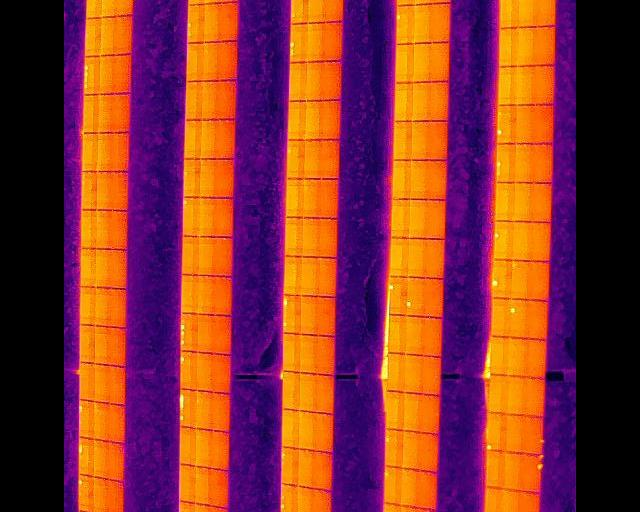Cell: (519, 414, 543, 453), (508, 298, 528, 338), (406, 277, 426, 315), (397, 4, 415, 42), (390, 276, 407, 314), (281, 446, 298, 484), (184, 196, 200, 235), (487, 411, 503, 450), (180, 351, 196, 389), (79, 399, 94, 438), (493, 220, 508, 259), (79, 437, 94, 475), (493, 259, 508, 297), (497, 105, 511, 143), (79, 474, 93, 511)
Cell-Multi: (519, 453, 542, 492), (290, 22, 308, 61), (283, 294, 300, 333), (188, 4, 205, 42), (495, 143, 511, 182), (181, 313, 197, 351), (85, 55, 100, 93), (281, 483, 298, 512)
No-Anomaly: (529, 182, 553, 222), (520, 377, 544, 416), (531, 143, 555, 182), (509, 182, 532, 222), (528, 221, 551, 260), (523, 337, 545, 377), (516, 64, 538, 104), (532, 104, 554, 143), (208, 469, 228, 509), (503, 336, 523, 376), (536, 65, 556, 104), (214, 236, 234, 275), (519, 26, 539, 65), (324, 20, 343, 61), (503, 374, 522, 415), (512, 102, 531, 143), (528, 297, 547, 337), (537, 24, 556, 64), (418, 470, 438, 508), (423, 316, 442, 356), (425, 276, 444, 316), (511, 142, 530, 182), (300, 334, 319, 373), (321, 99, 340, 138), (218, 119, 237, 158), (419, 432, 438, 471), (430, 42, 449, 81), (432, 3, 451, 42), (498, 65, 517, 104), (500, 27, 519, 66), (508, 259, 527, 298), (509, 221, 528, 260), (200, 198, 219, 236), (410, 199, 429, 237), (430, 81, 449, 119), (300, 294, 318, 334), (304, 138, 322, 178), (308, 21, 326, 61), (323, 58, 341, 98), (395, 119, 413, 159), (211, 430, 229, 470), (213, 353, 231, 393), (406, 314, 424, 354), (409, 238, 427, 278), (430, 119, 448, 159), (299, 408, 316, 450), (528, 260, 547, 297), (315, 449, 333, 488), (318, 335, 336, 374), (319, 178, 337, 217), (388, 351, 406, 390), (392, 198, 410, 237), (394, 159, 412, 198), (406, 353, 424, 392), (201, 158, 219, 197), (213, 315, 231, 354), (220, 40, 238, 79), (221, 80, 239, 119), (415, 4, 433, 43), (423, 355, 441, 394), (430, 159, 448, 198), (316, 411, 333, 452), (285, 217, 303, 255), (286, 178, 304, 216), (316, 374, 334, 412), (387, 391, 405, 429), (388, 314, 406, 352), (391, 237, 409, 275), (195, 352, 213, 390), (412, 160, 430, 198), (302, 255, 319, 295), (319, 216, 336, 256), (214, 275, 231, 315), (426, 237, 443, 277), (386, 428, 404, 465), (285, 255, 302, 294), (287, 139, 304, 178), (290, 62, 307, 101), (299, 372, 316, 411), (305, 99, 322, 138), (319, 256, 336, 295), (402, 467, 419, 506), (404, 431, 421, 470), (405, 392, 422, 431), (180, 426, 197, 465), (180, 463, 197, 502), (187, 80, 204, 119), (187, 42, 204, 81), (204, 80, 221, 119), (212, 392, 229, 431), (220, 1, 237, 40), (413, 42, 430, 81), (502, 413, 519, 452), (288, 101, 305, 139), (298, 449, 315, 487), (385, 466, 402, 504), (396, 81, 413, 119), (110, 403, 127, 441), (196, 391, 213, 429), (414, 82, 431, 120), (421, 394, 438, 432), (319, 295, 335, 335), (322, 137, 338, 177), (111, 287, 127, 327), (116, 14, 132, 54), (429, 198, 445, 238), (503, 450, 519, 490), (304, 178, 320, 217), (82, 131, 98, 170), (84, 93, 100, 132), (397, 42, 413, 81), (108, 441, 124, 480), (111, 248, 127, 287), (112, 209, 128, 248), (112, 170, 128, 209), (184, 158, 200, 197), (186, 119, 202, 158), (198, 313, 214, 352), (202, 119, 218, 158), (205, 41, 221, 80), (282, 408, 298, 447), (283, 332, 299, 371), (284, 371, 300, 410), (413, 120, 429, 159), (109, 365, 125, 403), (110, 327, 126, 365), (94, 401, 110, 439), (495, 181, 511, 219), (115, 92, 130, 132), (115, 52, 130, 92), (196, 427, 211, 467), (486, 450, 502, 487), (81, 247, 96, 286), (82, 208, 97, 247), (303, 217, 318, 256), (307, 61, 322, 100), (86, 16, 101, 55), (184, 274, 199, 313), (196, 466, 211, 505), (199, 275, 214, 314), (205, 2, 220, 41), (219, 197, 234, 236), (219, 159, 234, 198), (96, 247, 111, 286), (96, 209, 111, 248), (97, 170, 112, 209), (99, 93, 114, 132), (100, 54, 115, 93), (492, 297, 507, 336), (100, 16, 115, 55), (80, 324, 95, 362), (80, 286, 95, 324), (82, 170, 97, 208), (113, 131, 128, 169), (183, 236, 198, 274), (94, 440, 109, 478), (80, 362, 95, 399), (199, 236, 213, 275), (95, 362, 109, 401), (95, 325, 109, 364), (96, 285, 110, 324), (99, 131, 113, 170), (490, 373, 504, 412), (491, 335, 505, 374), (518, 0, 539, 26), (93, 476, 108, 512), (499, 0, 519, 27), (484, 486, 503, 512), (109, 480, 124, 512), (537, 0, 556, 25), (519, 489, 539, 512), (502, 487, 520, 512), (314, 488, 332, 512), (298, 486, 314, 512), (308, 0, 326, 22), (291, 0, 308, 22), (327, 0, 344, 22), (86, 0, 102, 17), (116, 0, 132, 16), (102, 0, 116, 16), (180, 501, 195, 512), (385, 504, 402, 512), (195, 503, 209, 512)
Unclassified: (180, 388, 196, 427)
